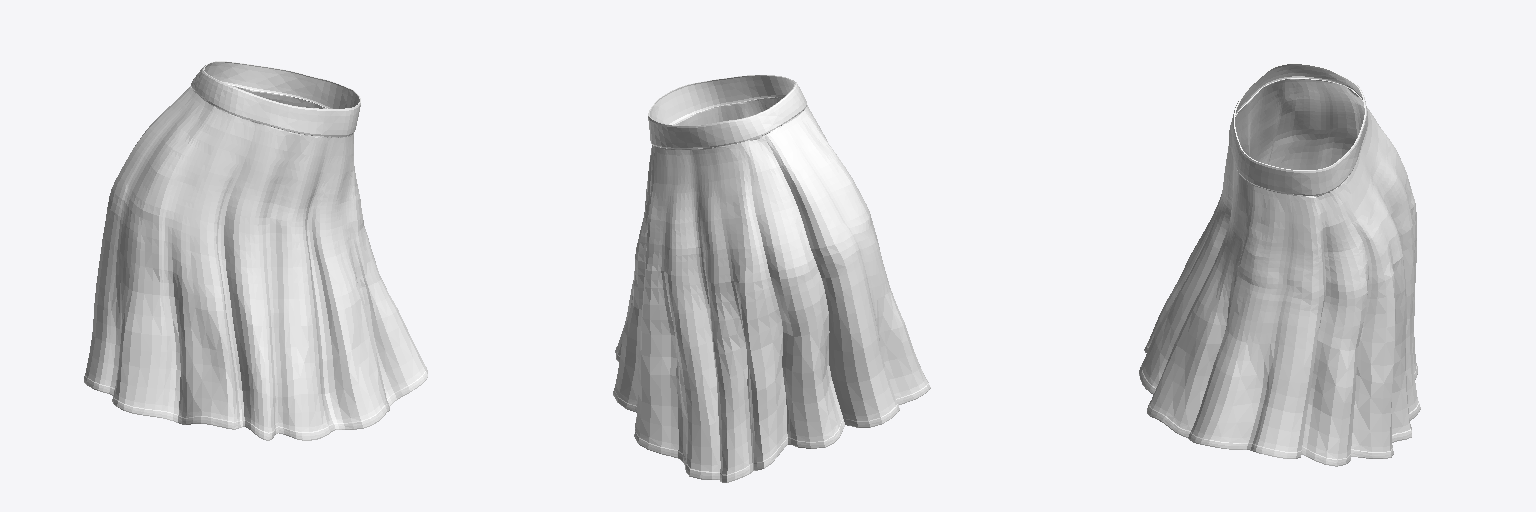
The model's file is skirt.obj.
3 renders of one model, left to right at view 1: azimuth 30°, elevation 25°; view 2: azimuth 150°, elevation 25°; view 3: azimuth 270°, elevation 25°, orthographic.
Visible parts, largest first — view 1: objFigure_; view 2: objFigure_; view 3: objFigure_.
Part boxes in pixels (x1,y1,x2,y2): objFigure_: (84, 61, 427, 440); objFigure_: (613, 75, 930, 482); objFigure_: (1139, 63, 1420, 466).
Size of the model in its own units: 17.22 by 19.56 by 14.04.